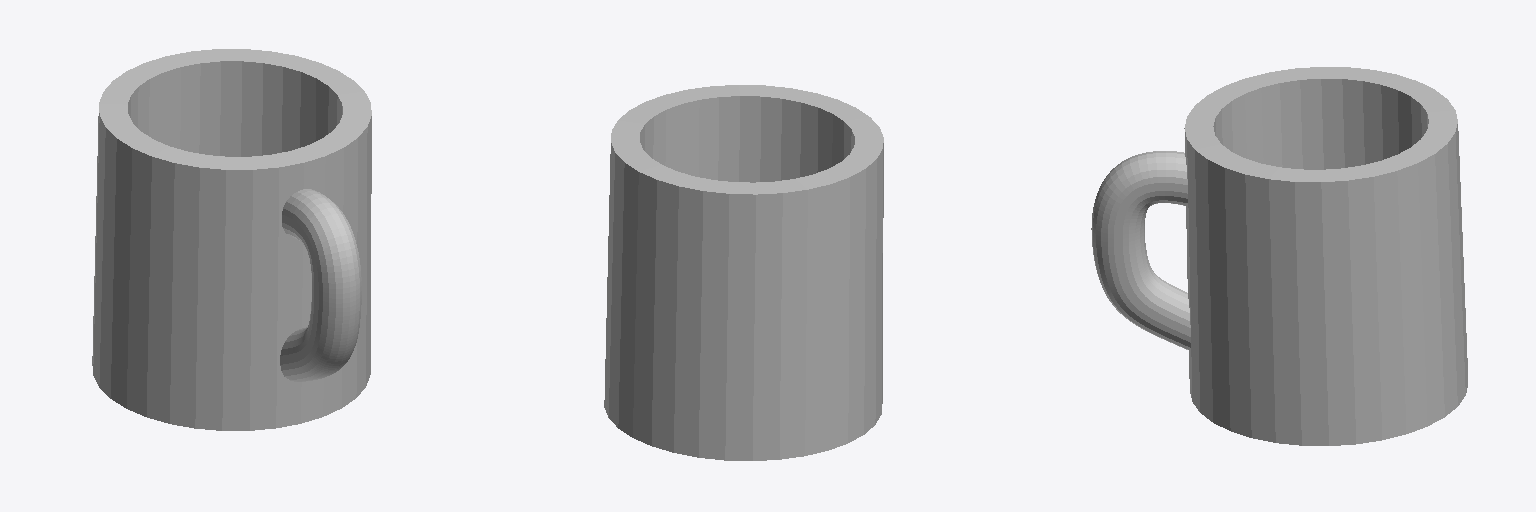
Rendered from cupII.obj.
3 views of the same model, side by side, from view 1: azimuth 30°, elevation 25°; view 2: azimuth 150°, elevation 25°; view 3: azimuth 270°, elevation 25° (orthographic).
Visible parts, largest first — view 1: Cup_Material.002; view 2: Cup_Material.002; view 3: Cup_Material.002.
Boxes of the visible parts, <box> form: Cup_Material.002: <box>92,49,371,430</box>; Cup_Material.002: <box>604,85,883,460</box>; Cup_Material.002: <box>1091,67,1467,445</box>.
Size of the model in its own units: 0.0885 by 0.0944 by 0.1196.